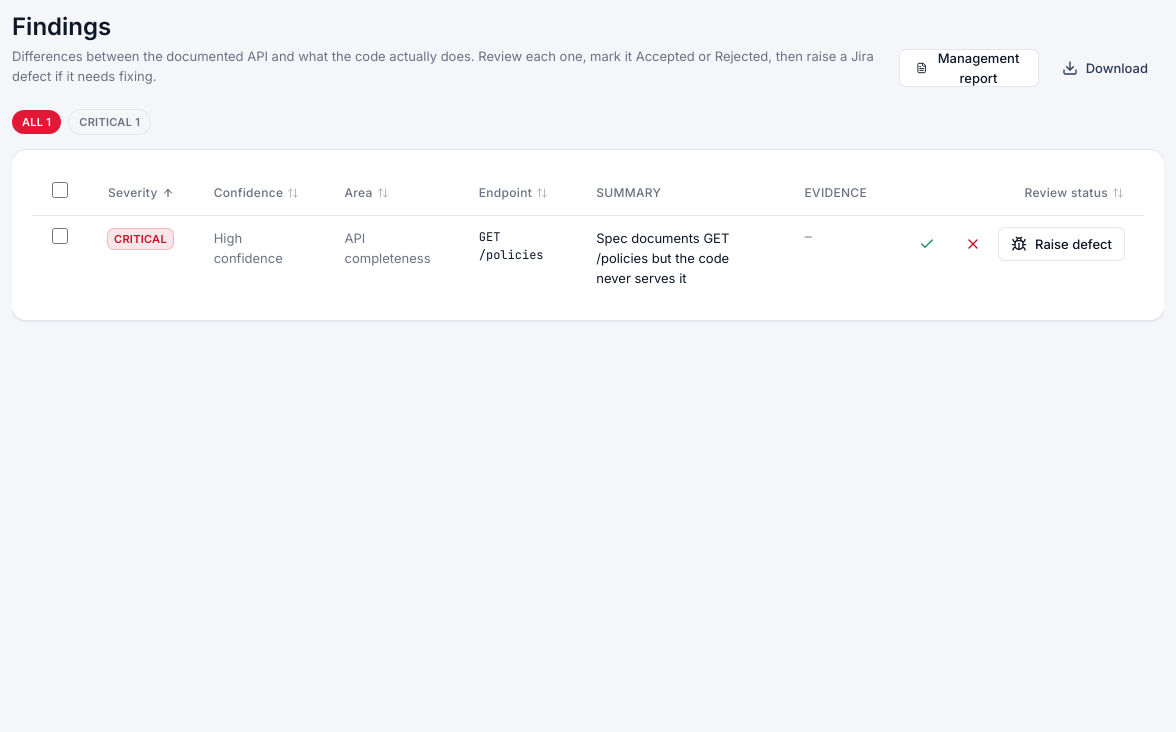
Scenario: Findings disposition › surfaces an error toast when the PATCH fails (not a silent success)
Expected: the text "Spec documents GET /policies but the code never serves it" is shown, [596, 230, 729, 286]
Click the button named "Accept — this is a real difference" at x=927, y=244, box [907, 228, 947, 260]
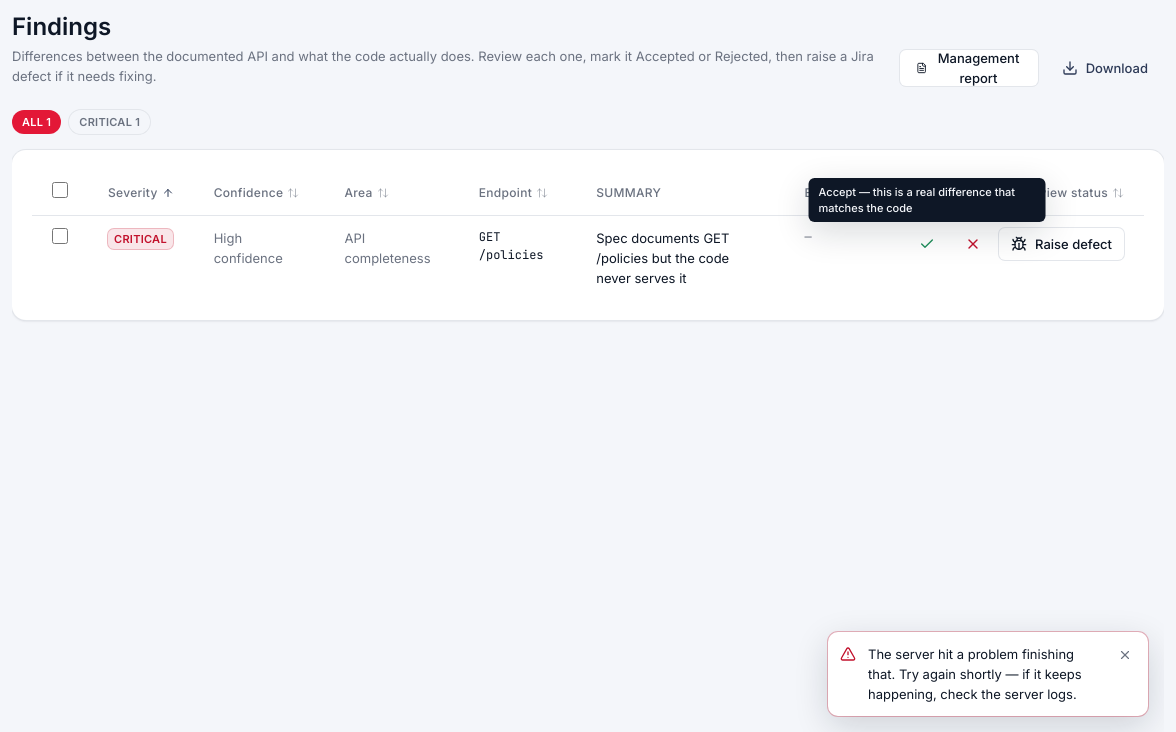
Expected: the message is shown, [828, 632, 1148, 716]
